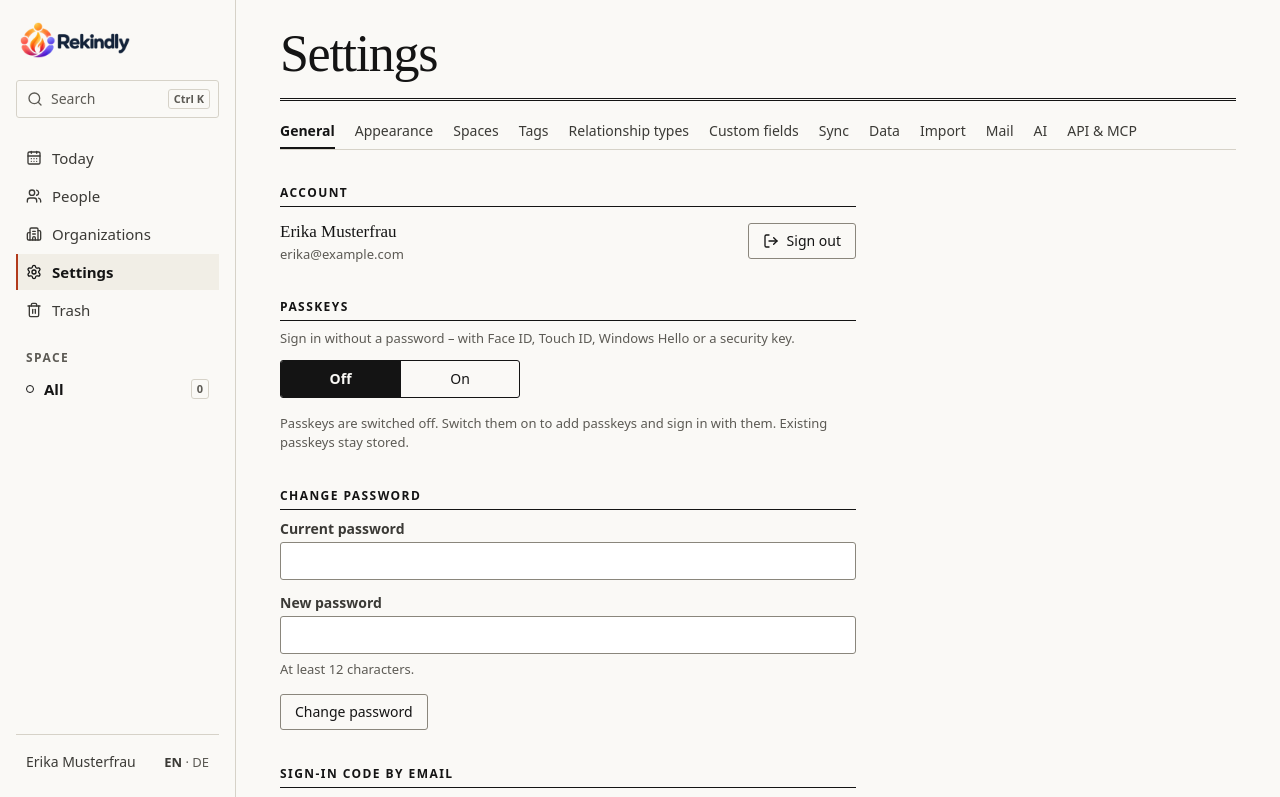
App shell › switches passkeys on in settings
The width and height of the screenshot is (1280, 797).
Click the radio button labelled "On" at x=460, y=379, box [400,361,519,397]
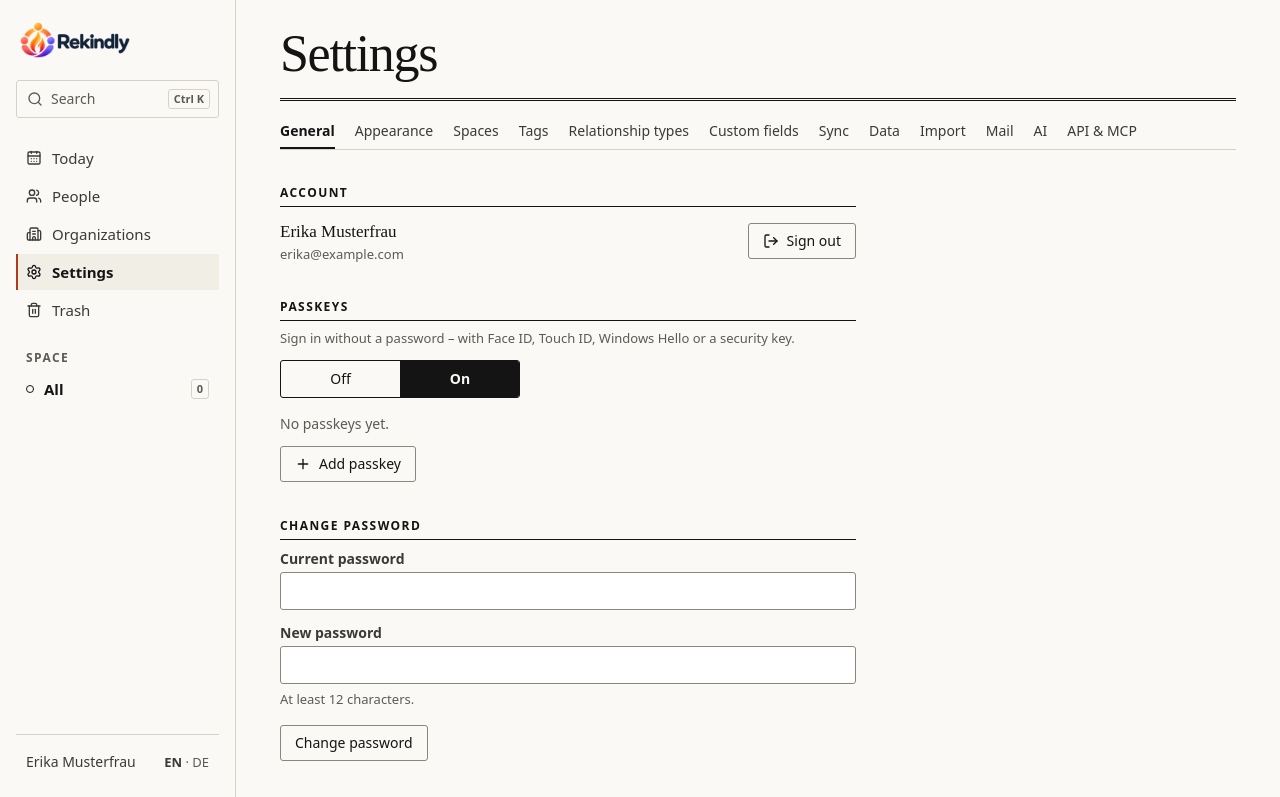
Result: the text "No passkeys yet." is shown at [280,414,389,433]
